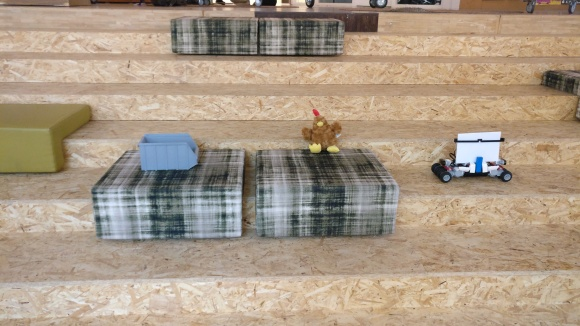car: (431, 131, 515, 183)
chicken: (301, 108, 343, 155)
tray: (137, 131, 199, 172)
